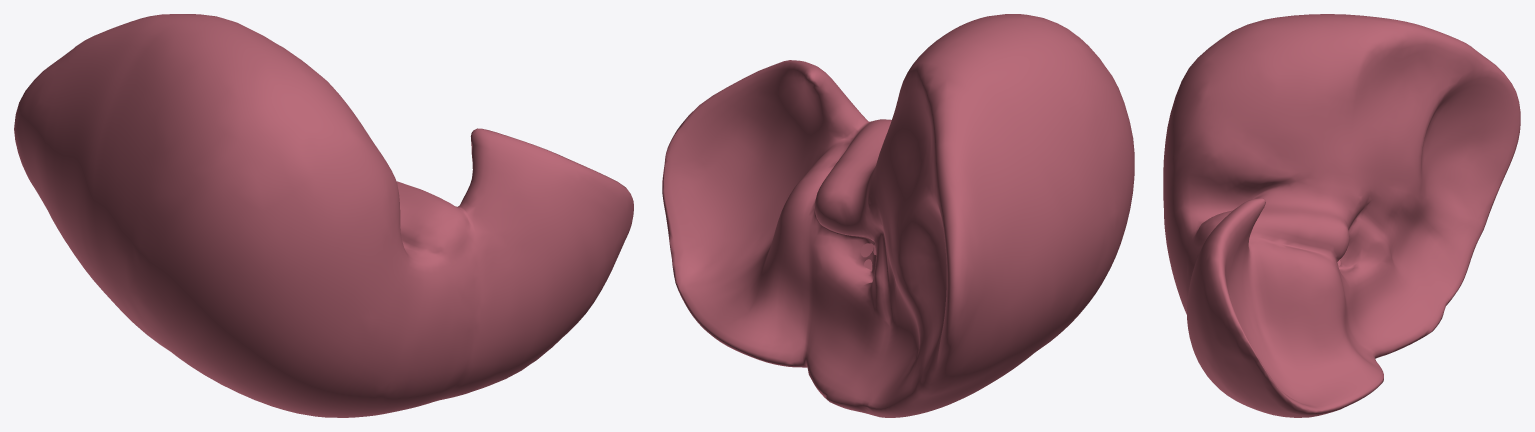
3 views of the same model, side by side, from view 1: azimuth 30°, elevation 25°; view 2: azimuth 150°, elevation 25°; view 3: azimuth 270°, elevation 25° (orthographic). The views are drawn at different scales.
Parts seen in each view (by area): view 1: 肝; view 2: 肝; view 3: 肝.
Part boxes in pixels (x1=…): 肝: x1=14, y1=14, x2=633, y2=417; 肝: x1=662, y1=14, x2=1134, y2=417; 肝: x1=1163, y1=14, x2=1520, y2=417.
Bounding box in the file's own units: 0.304 × 0.2257 × 0.245.
